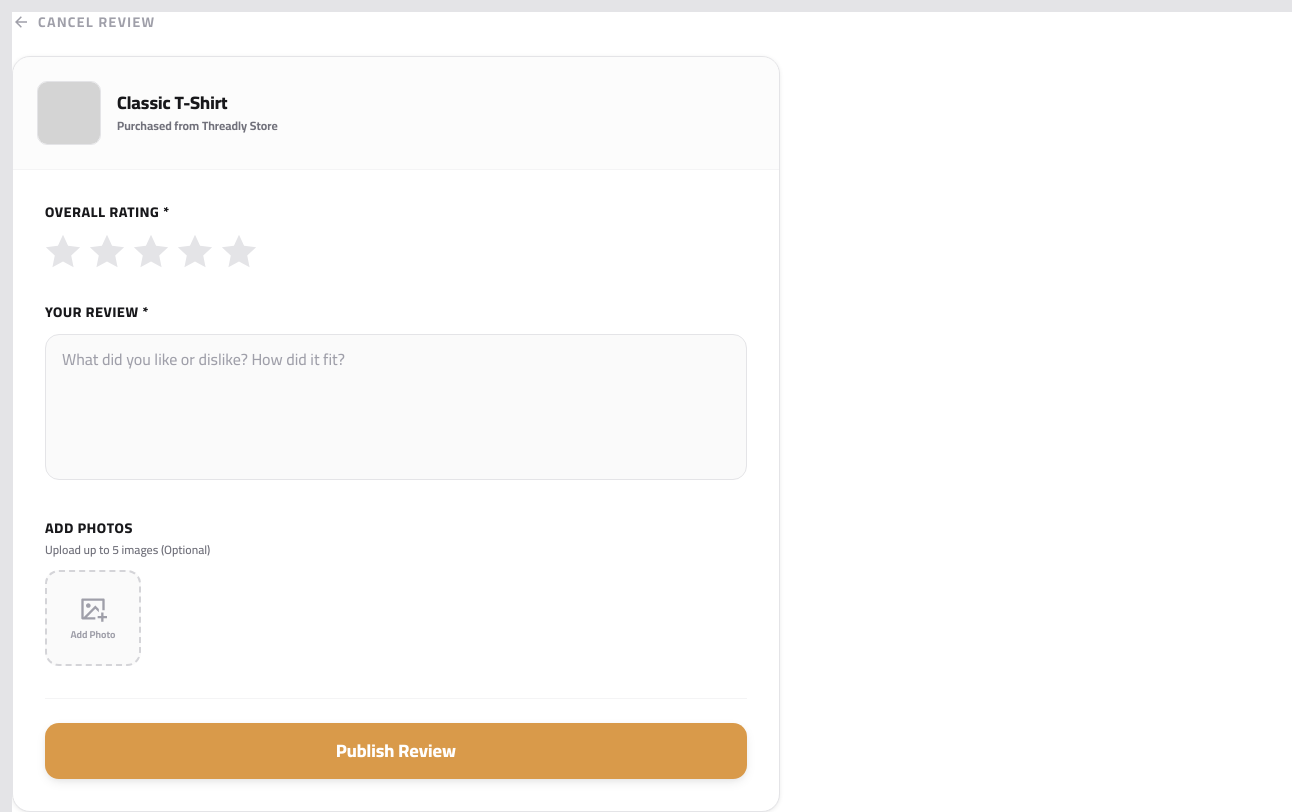
Test: Account Write Review Page › shows API error message when submitting the review fails
expect the heading "Classic T-Shirt" is shown: met, box [117,86,228,119]
Click the button named "rate 5 stars" at (239, 252), box [221,234,257,270]
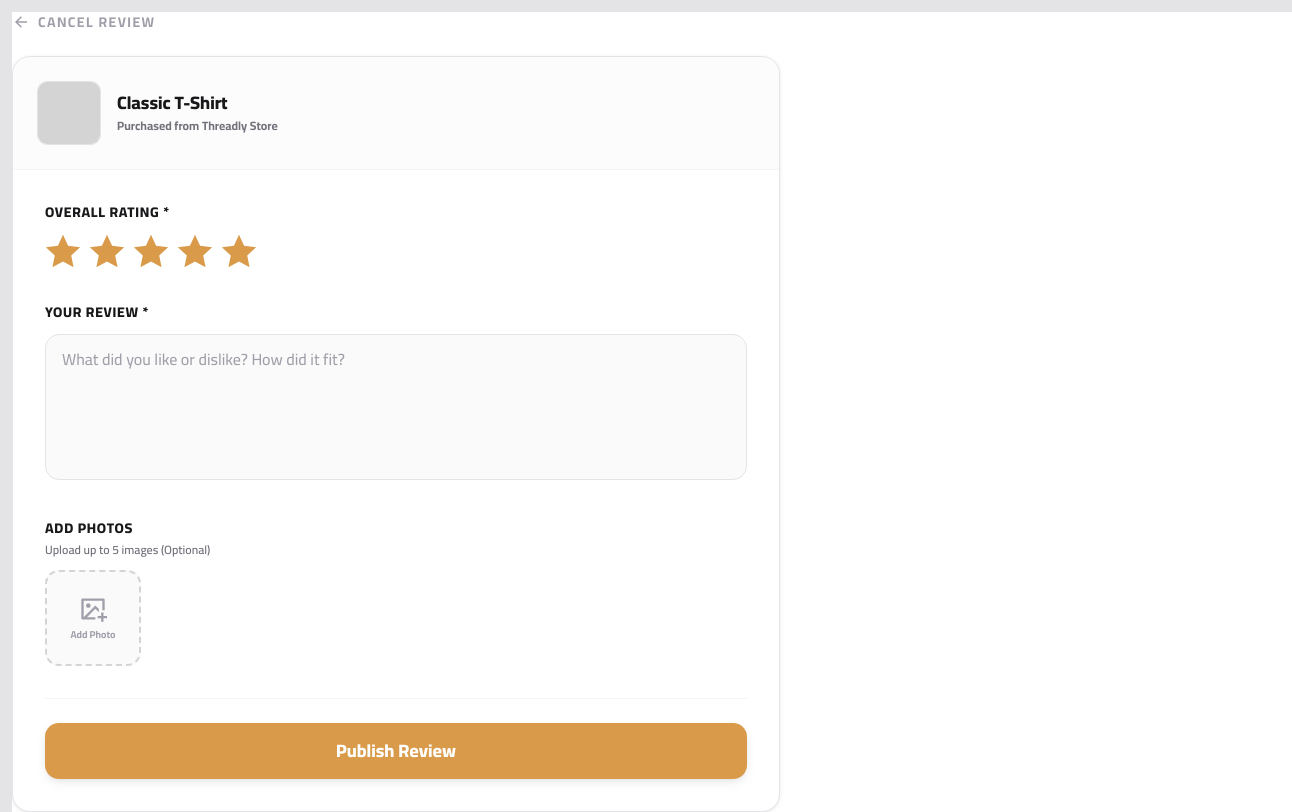
Type "Awesome product!" into the text box at (396, 407), box [45,334,747,480]
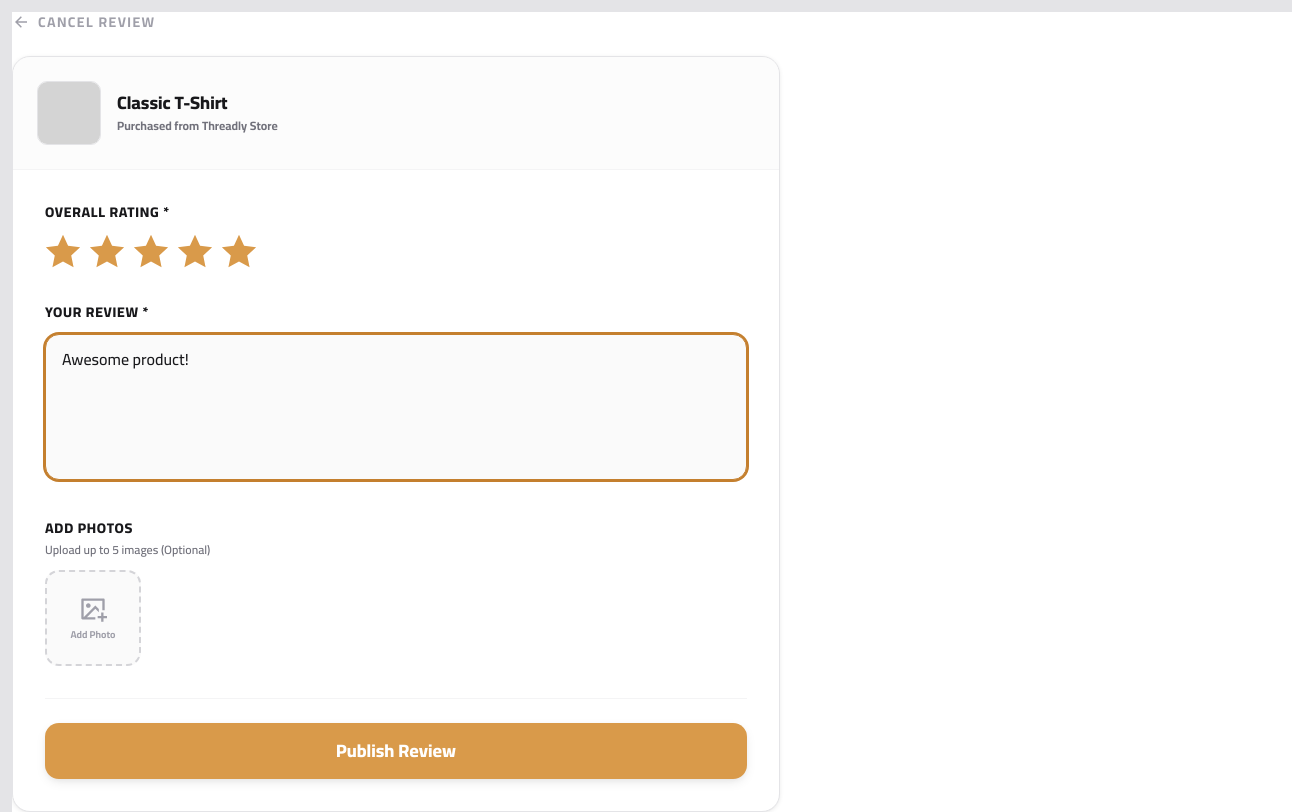
Click the button "Publish Review" at (396, 751), box [45,723,747,779]
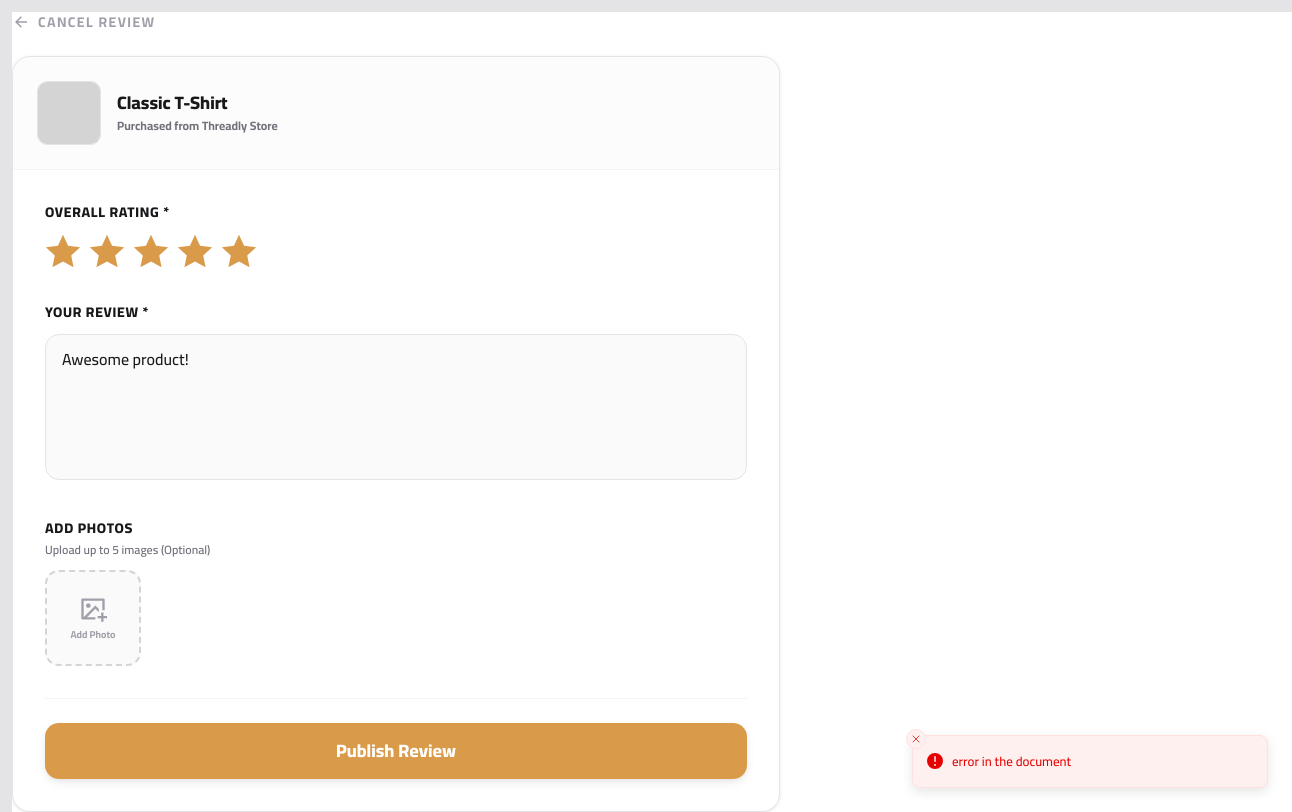
expect the text "error in the document" is shown: met, box [952,752,1071,771]
